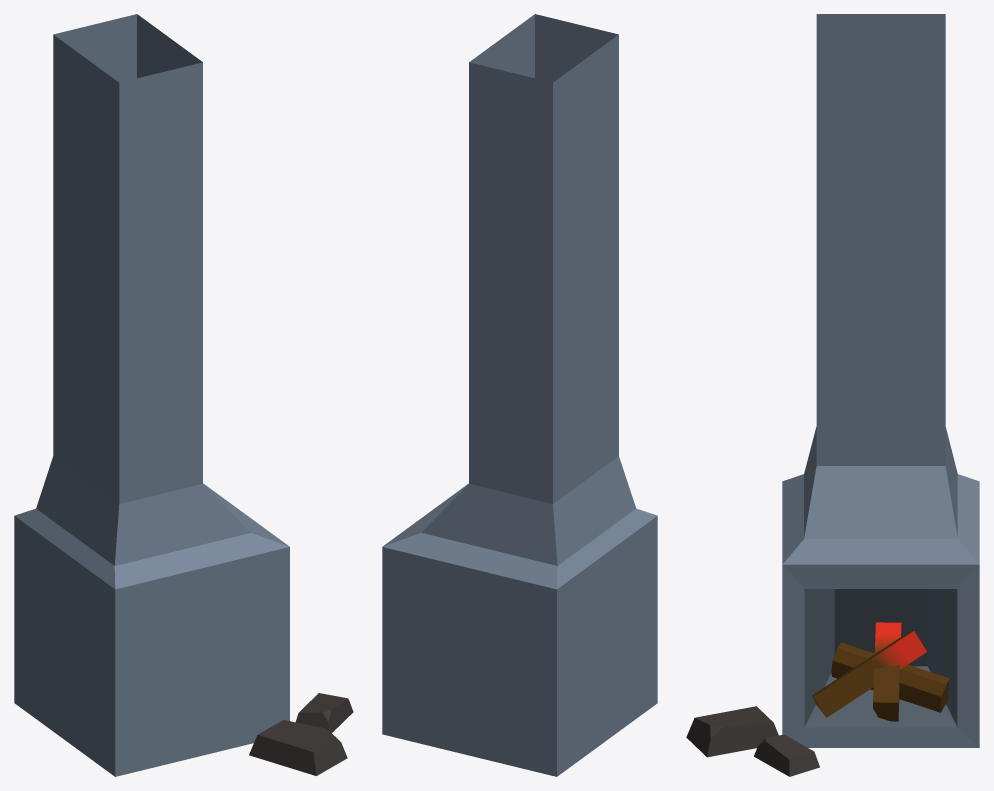
The model's file is Vikings_fireplace.fbx.
3 views of the same model, side by side, from view 1: azimuth 30°, elevation 25°; view 2: azimuth 150°, elevation 25°; view 3: azimuth 270°, elevation 25° (orthographic). The views are drawn at different scales.
Parts seen in each view (by area): view 1: Cube.004; view 2: Cube.004; view 3: Cube.004.
Part boxes in pixels (x1,y1,x2,y2): Cube.004: (14, 14, 353, 776); Cube.004: (382, 14, 657, 776); Cube.004: (686, 14, 979, 776).
Size of the model in its own units: 148 by 394 by 158.
